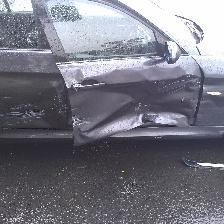dent: (62, 53, 205, 160)
scrach: (0, 88, 81, 141)
